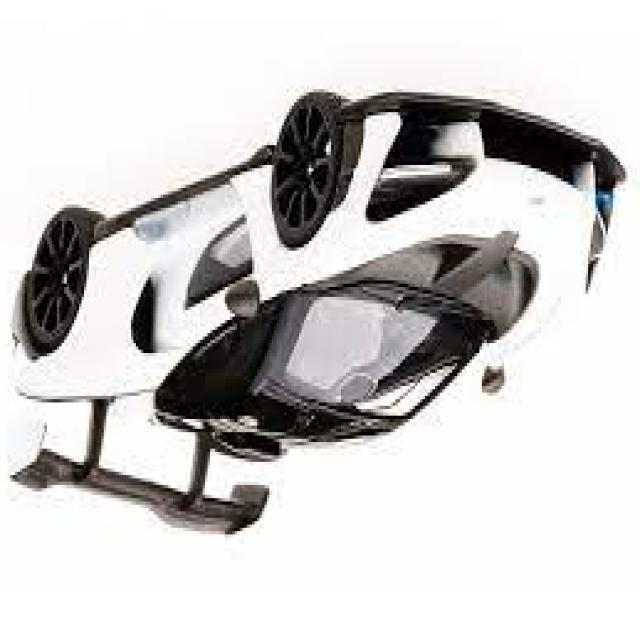Car: (10, 89, 628, 541)
